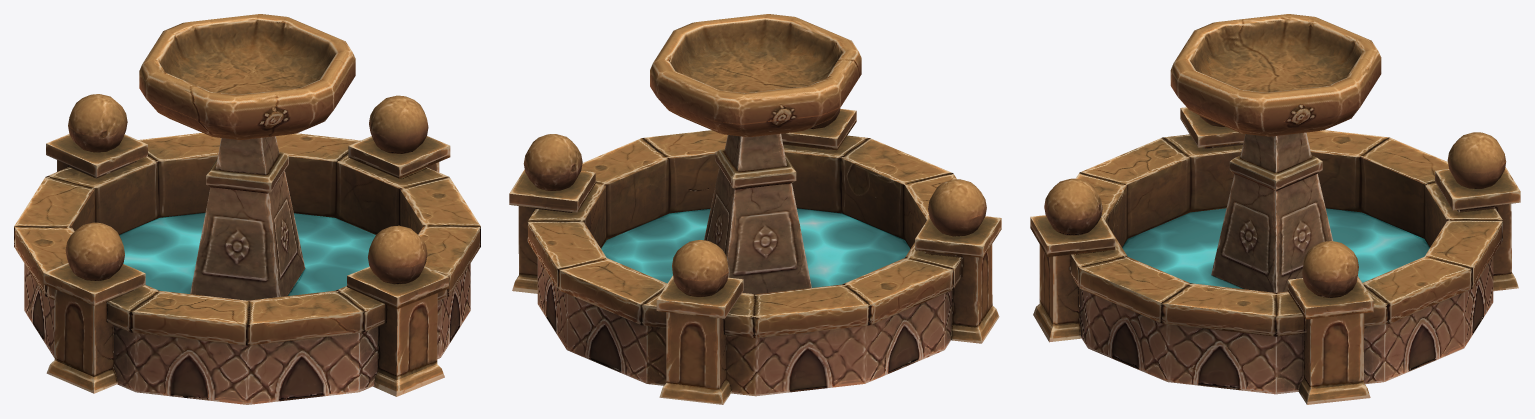
Rendered from fountain.glb.
The picture shows the model from 3 angles, left to right: view 1: azimuth 30°, elevation 25°; view 2: azimuth 150°, elevation 25°; view 3: azimuth 270°, elevation 25°; orthographic projection. The views are drawn at different scales.
Parts seen in each view (by area): view 1: Object_2; view 2: Object_2; view 3: Object_2.
Boxes of the visible parts, left/top/right/bottom form: Object_2: left=14, top=14, right=480, bottom=404; Object_2: left=509, top=14, right=1001, bottom=404; Object_2: left=1030, top=14, right=1520, bottom=404.
Bounding box in the file's own units: 4.33 × 2.43 × 4.33.
Materials: 1 (1 with a texture image).
